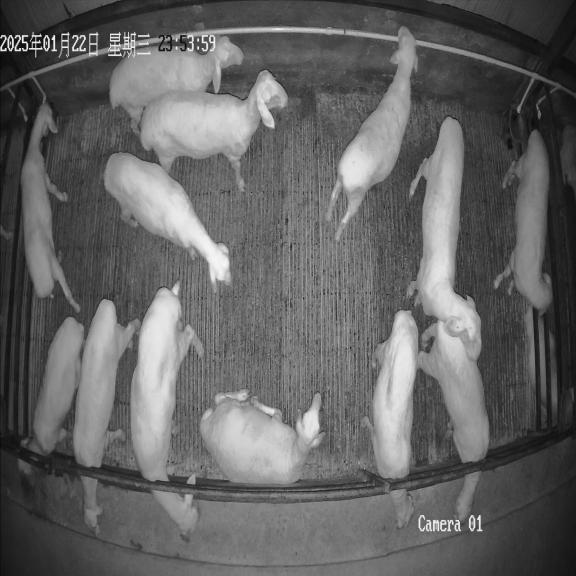drinking: (21, 98, 80, 313)
eating: (130, 281, 203, 541), (73, 298, 141, 535), (418, 322, 489, 522), (362, 310, 418, 528), (18, 317, 84, 476)
lying: (200, 390, 324, 484)
stand: (326, 27, 418, 240), (407, 117, 481, 360), (103, 152, 231, 292), (139, 70, 287, 191), (109, 36, 244, 135), (494, 130, 552, 315)
